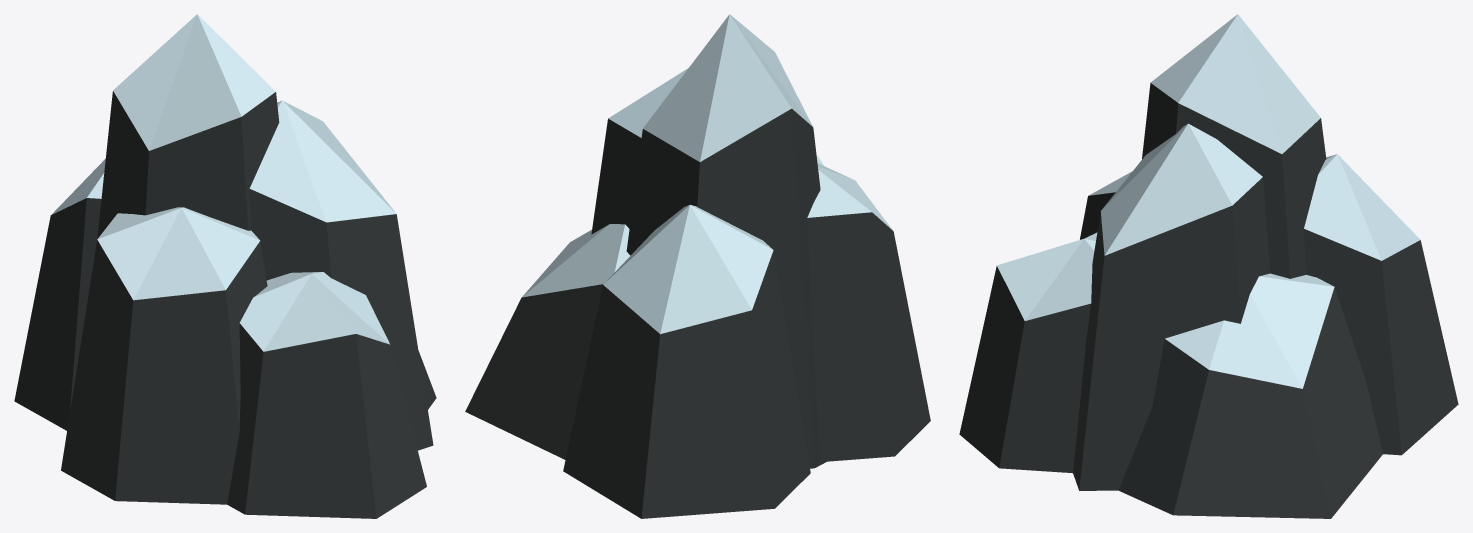
File: SM_Env_Generic_Rock_05_Snow.fbx
The picture shows the model from 3 angles, left to right: view 1: azimuth 30°, elevation 25°; view 2: azimuth 150°, elevation 25°; view 3: azimuth 270°, elevation 25°; orthographic projection. The views are drawn at different scales.
Visible parts, largest first — view 1: SM_Env_Generic_Rock_05_Snow; view 2: SM_Env_Generic_Rock_05_Snow; view 3: SM_Env_Generic_Rock_05_Snow.
Boxes of the visible parts, box(x1,y1,x2,y2) form: SM_Env_Generic_Rock_05_Snow: box(14, 14, 436, 518); SM_Env_Generic_Rock_05_Snow: box(465, 14, 930, 518); SM_Env_Generic_Rock_05_Snow: box(959, 14, 1458, 518).
Size of the model in its own units: 83.43 by 93.78 by 101.
1 material, 1 textured.
